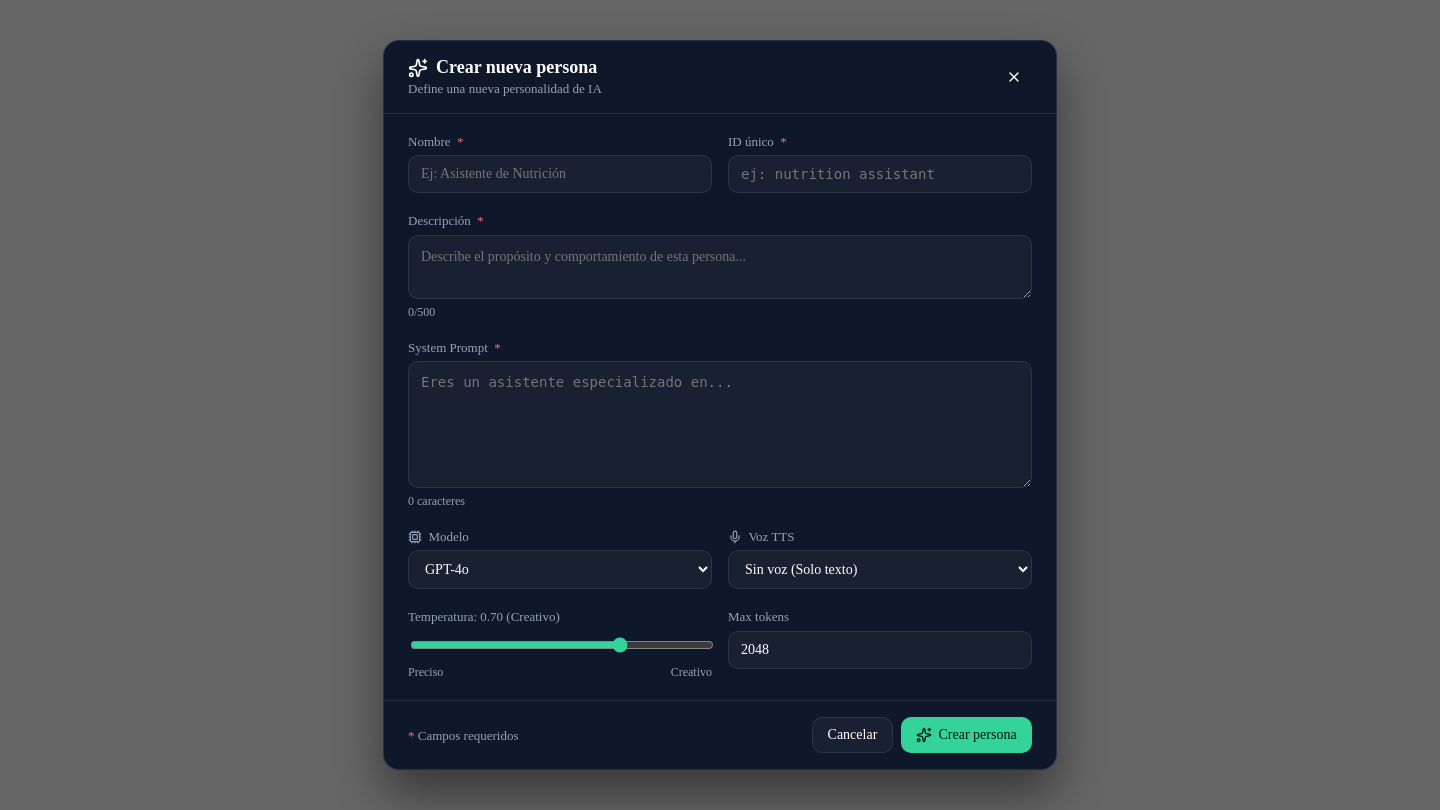
Test: PersonaCreateModal › shows the store's error message and stays open
In the field labelled "Nombre *": [560, 174] box [408,155,712,193], type "Asistente Nutrición"
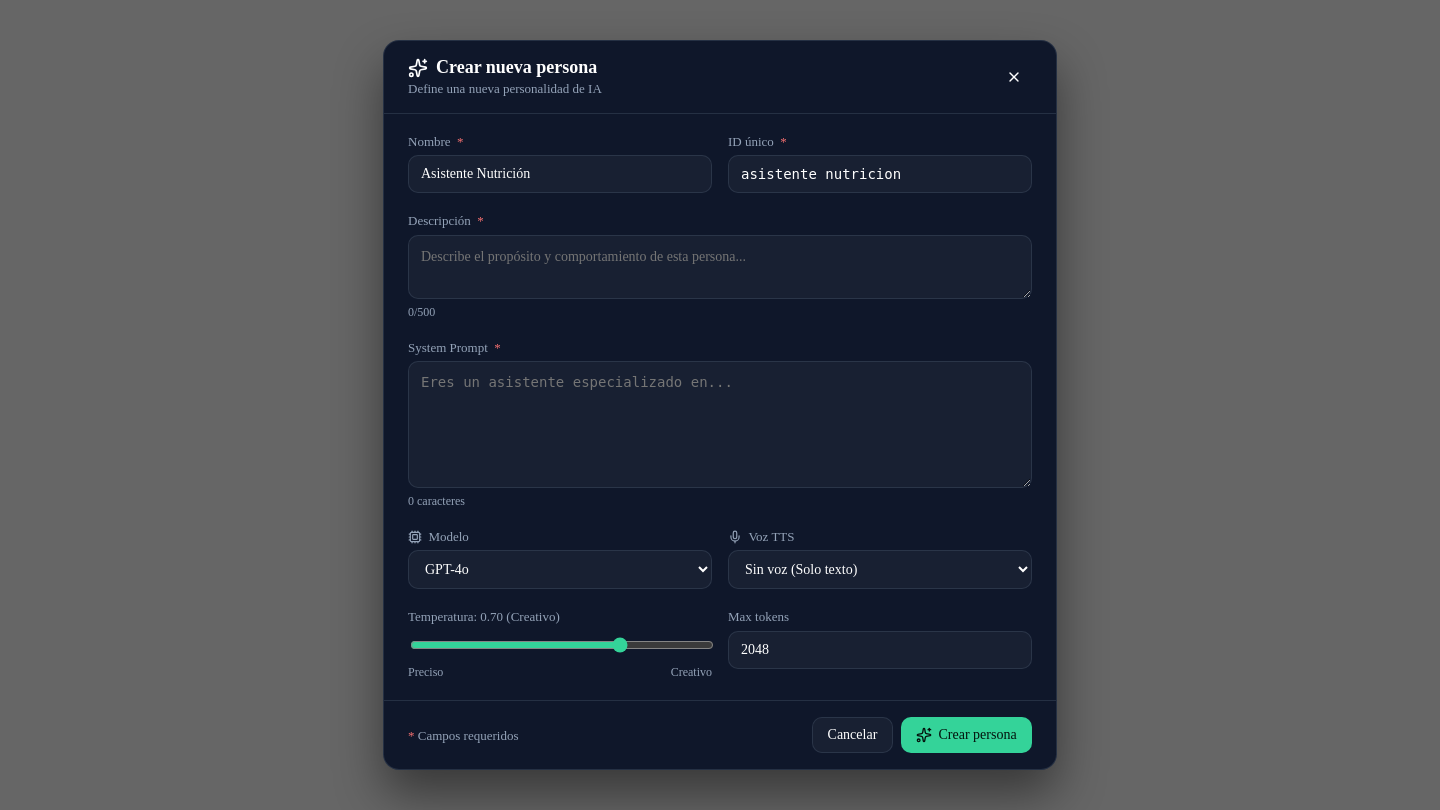
In the text box labelled "Descripción *": [720, 267] box [408,235,1032,299], type "Orienta sobre alimentación."
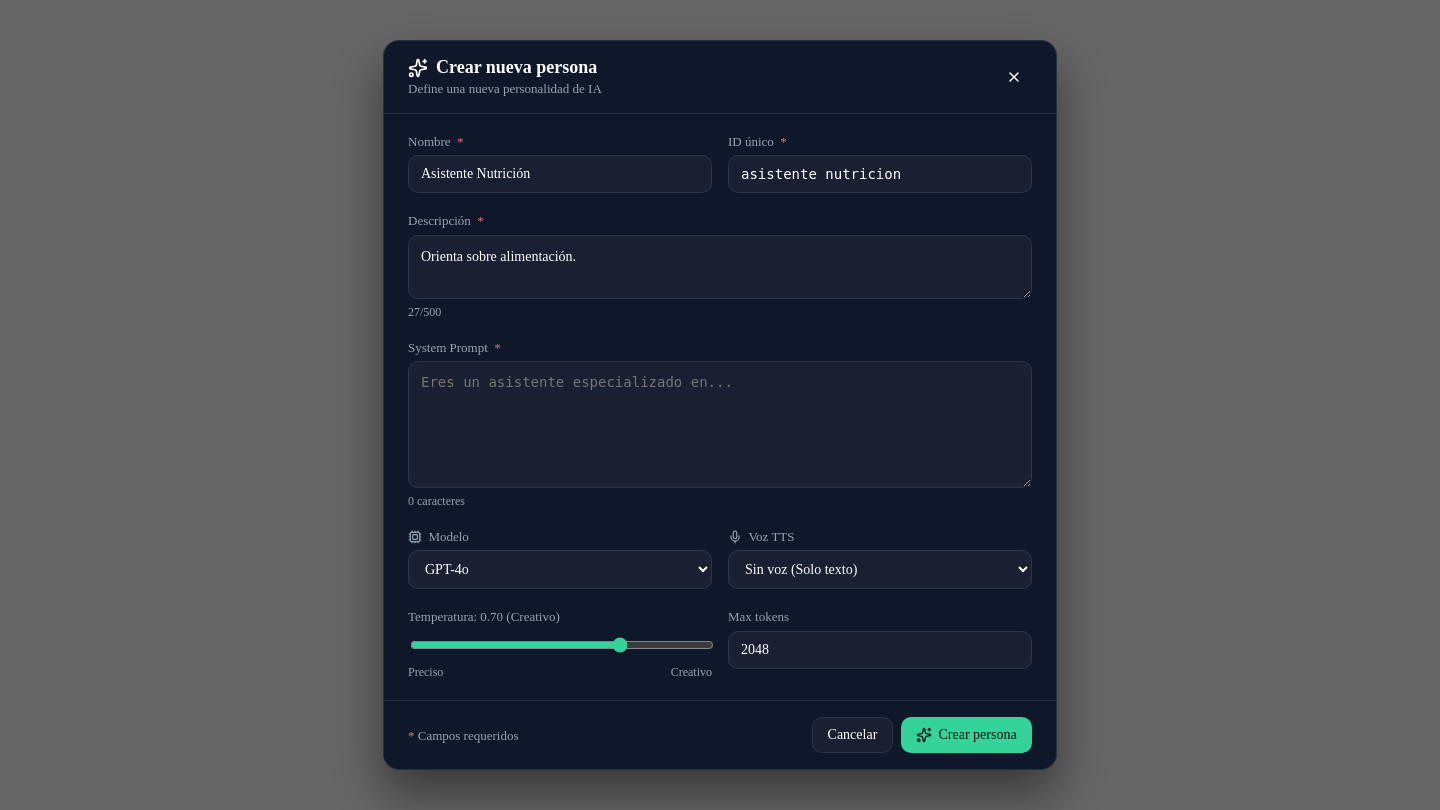
In the text box labelled "System Prompt *": [720, 425] box [408,361,1032,488], type "Eres un asistente especializado en nutrición."
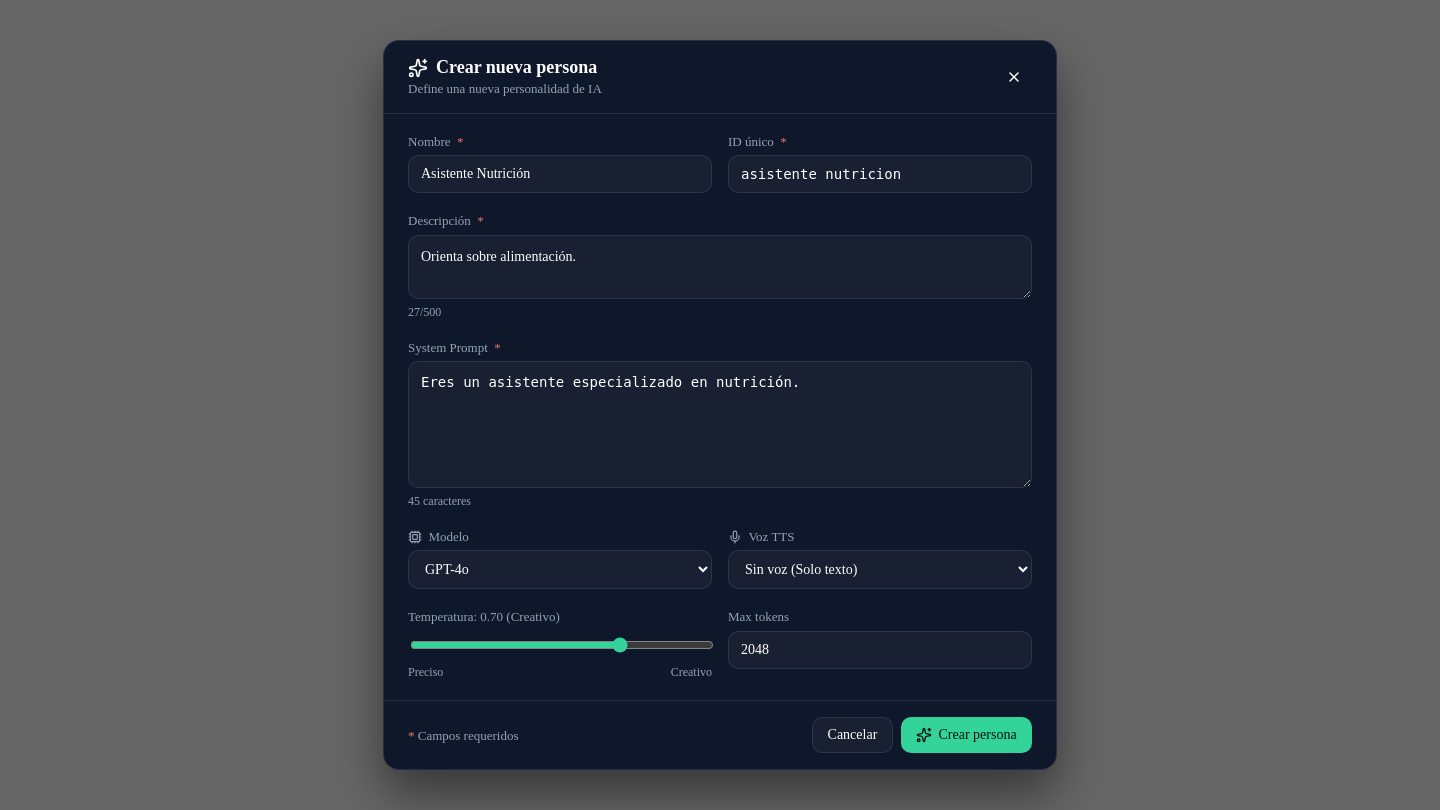
Click the button "Crear persona": [966, 735] box [901,717,1032,753]
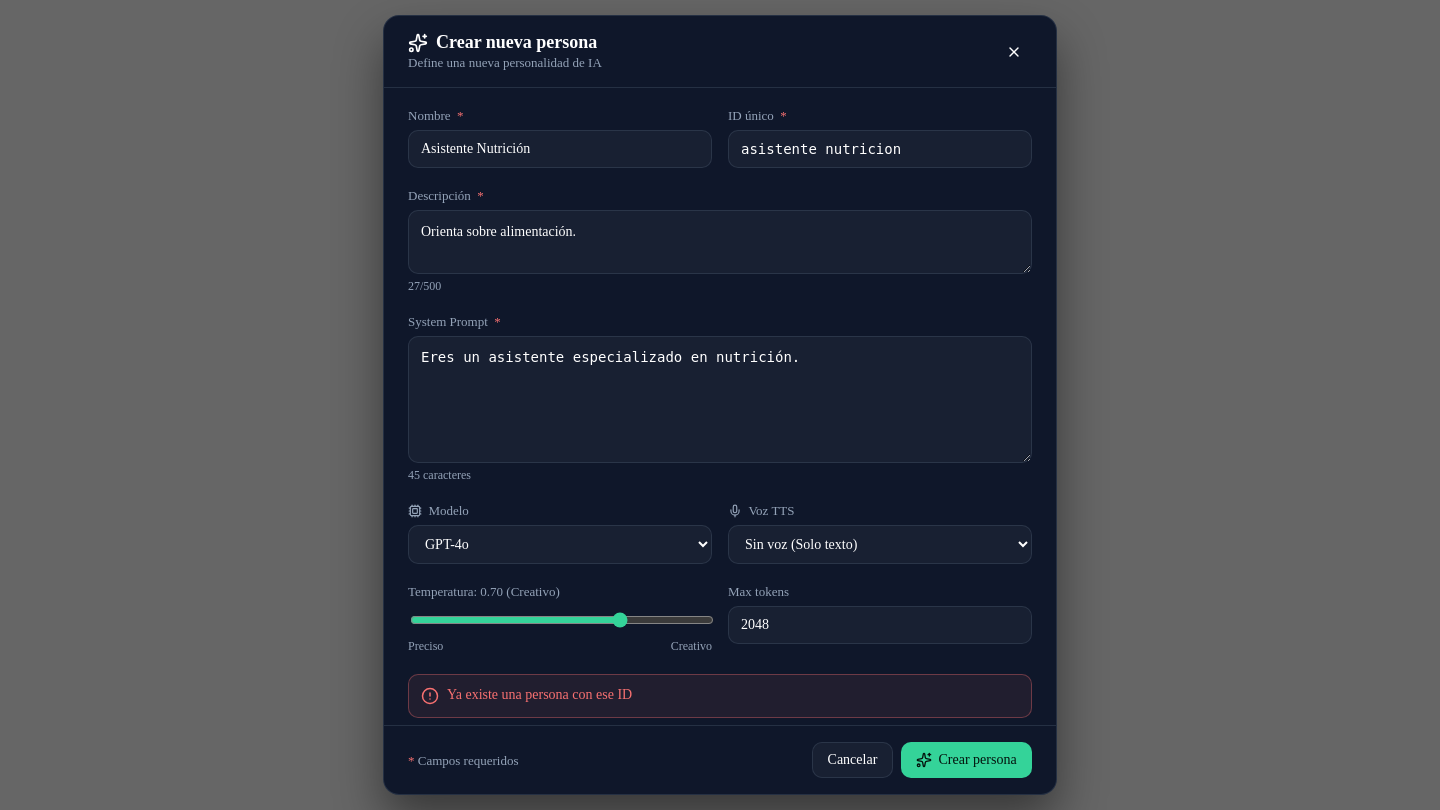
Expected: the text "Ya existe una persona con ese ID" is shown, [447,687,632,702]
